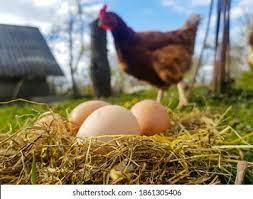egg: (70, 104, 146, 144), (129, 100, 173, 134), (70, 99, 111, 120)
